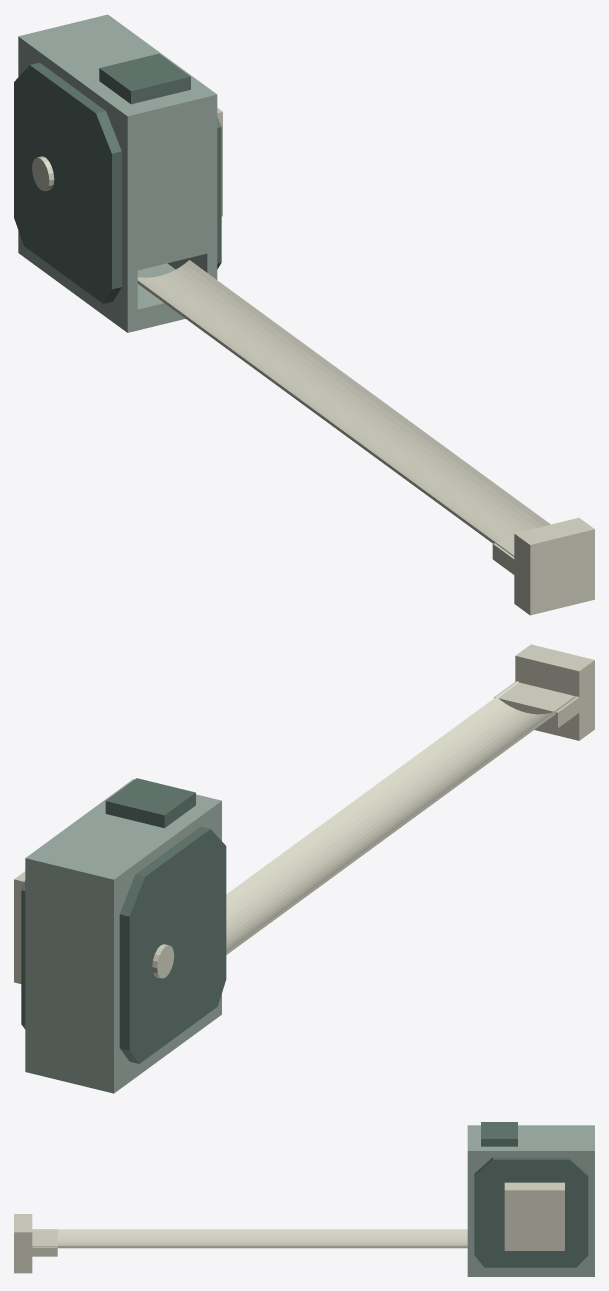
The picture shows the model from 3 angles, top to bottom: view 1: azimuth 30°, elevation 25°; view 2: azimuth 150°, elevation 25°; view 3: azimuth 270°, elevation 25°; orthographic projection. The views are drawn at different scales.
Visible parts, largest first — view 1: WholeEnclosedCaseWithNarrowFrontOutlet, WholeContinuousCurvedCrossSectionBlankTape, WholeChamferedSideCover_-1, WholeDownturnedEndHook, WholeFixedTopThumbLock; view 2: WholeEnclosedCaseWithNarrowFrontOutlet, WholeChamferedSideCover_-1, WholeContinuousCurvedCrossSectionBlankTape, WholeDownturnedEndHook, WholeFixedTopThumbLock, WholeOffsetOpenBeltClip, WholeChamferedSideCover_1, WholeSeatedSideFastener_-1; view 3: WholeContinuousCurvedCrossSectionBlankTape, WholeChamferedSideCover_1, WholeEnclosedCaseWithNarrowFrontOutlet, WholeOffsetOpenBeltClip, WholeDownturnedEndHook, WholeFixedTopThumbLock.
Boxes of the visible parts, bbox=[...] form: WholeEnclosedCaseWithNarrowFrontOutlet: bbox=[18, 14, 217, 332]; WholeContinuousCurvedCrossSectionBlankTape: bbox=[137, 260, 550, 556]; WholeChamferedSideCover_-1: bbox=[14, 62, 121, 303]; WholeDownturnedEndHook: bbox=[492, 517, 594, 615]; WholeFixedTopThumbLock: bbox=[99, 53, 190, 104]; WholeEnclosedCaseWithNarrowFrontOutlet: bbox=[25, 779, 221, 1093]; WholeChamferedSideCover_-1: bbox=[119, 826, 226, 1063]; WholeContinuousCurvedCrossSectionBlankTape: bbox=[226, 681, 576, 954]; WholeDownturnedEndHook: bbox=[494, 644, 594, 740]; WholeFixedTopThumbLock: bbox=[105, 778, 195, 828]; WholeOffsetOpenBeltClip: bbox=[14, 871, 25, 983]; WholeChamferedSideCover_1: bbox=[21, 880, 25, 1029]; WholeSeatedSideFastener_-1: bbox=[152, 944, 174, 978]; WholeContinuousCurvedCrossSectionBlankTape: bbox=[32, 1229, 467, 1248]; WholeChamferedSideCover_1: bbox=[474, 1157, 588, 1267]; WholeEnclosedCaseWithNarrowFrontOutlet: bbox=[467, 1125, 594, 1276]; WholeOffsetOpenBeltClip: bbox=[504, 1182, 564, 1250]; WholeDownturnedEndHook: bbox=[14, 1214, 57, 1273]; WholeFixedTopThumbLock: bbox=[481, 1122, 517, 1146].
Bounding box in the file's own units: 0.057 × 0.088 × 0.347.
